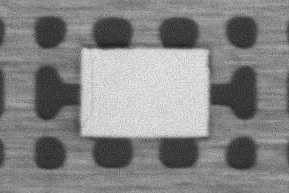DIE_CRACK: (80, 52, 95, 125)
